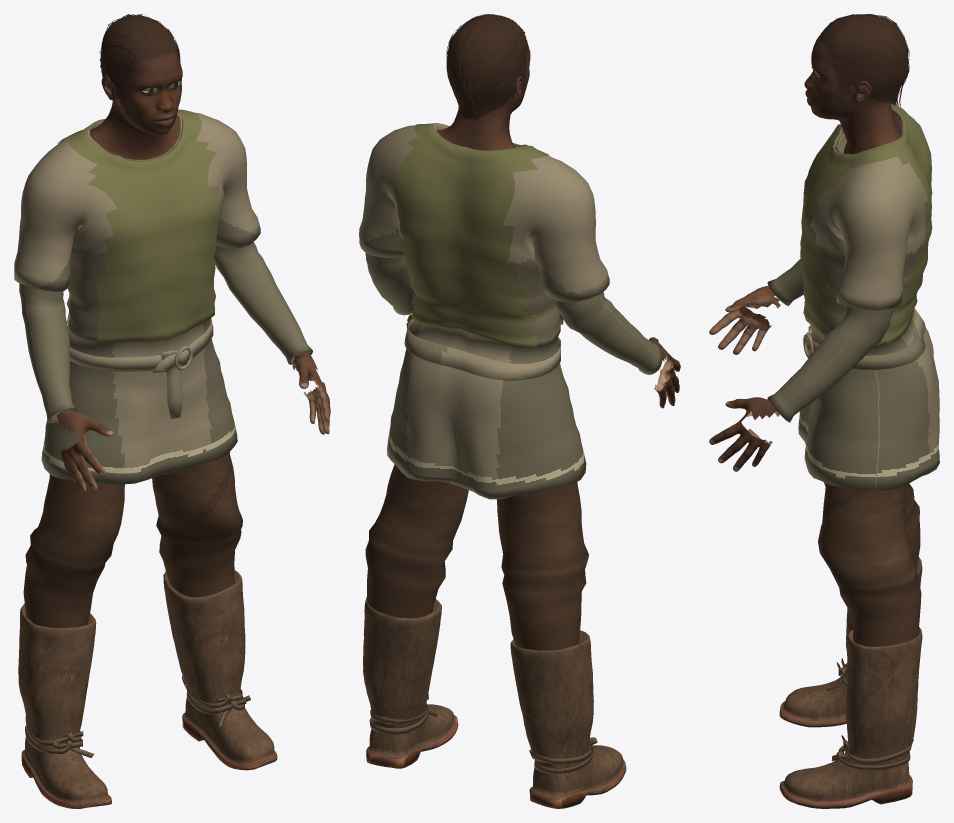
File: tavin-work-vest.glb
3 views of the same model, side by side, from view 1: azimuth 30°, elevation 25°; view 2: azimuth 150°, elevation 25°; view 3: azimuth 270°, elevation 25° (orthographic). The views are drawn at different scales.
Parts seen in each view (by area): view 1: tavin-work-vest runtime mesh; view 2: tavin-work-vest runtime mesh; view 3: tavin-work-vest runtime mesh.
Part boxes in pixels (<box>): tavin-work-vest runtime mesh: <box>14,14,330,808</box>; tavin-work-vest runtime mesh: <box>359,14,680,808</box>; tavin-work-vest runtime mesh: <box>709,14,939,808</box>.
Size of the model in its own units: 0.6882 by 1.85 by 0.5231.
9 materials, 7 textured.
